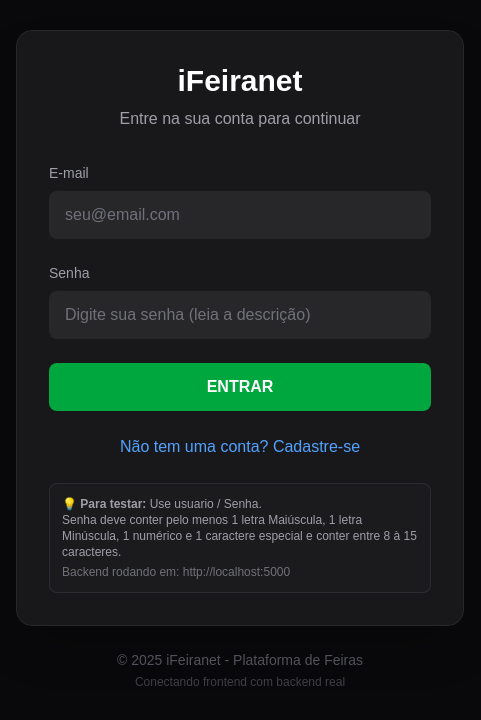
Test: Login Component › Test 2: Switch to register form
The image size is (481, 720).
Click the button "Não tem uma conta? Cadastre-se" at [240, 447], box [120,435,360,459]
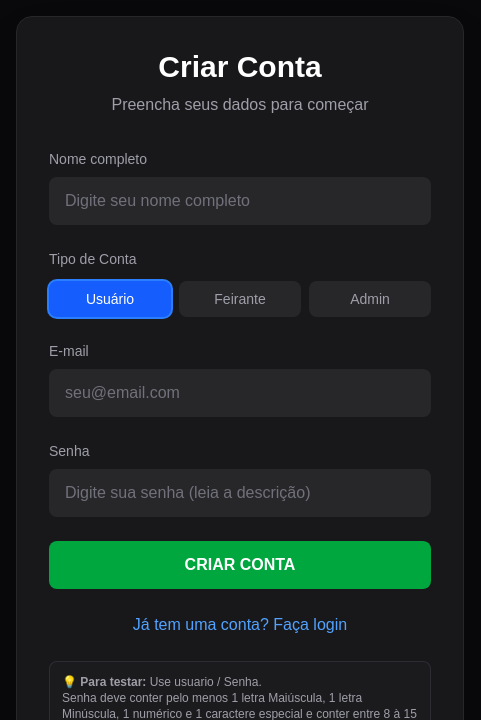
Result: the heading "Criar Conta" is shown at [158,50,322,83]
Result: the field with placeholder "Digite seu nome completo" is shown at [49,177,431,225]
